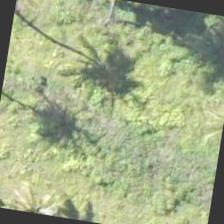Kelapa_Sawit: (0, 161, 90, 222)
